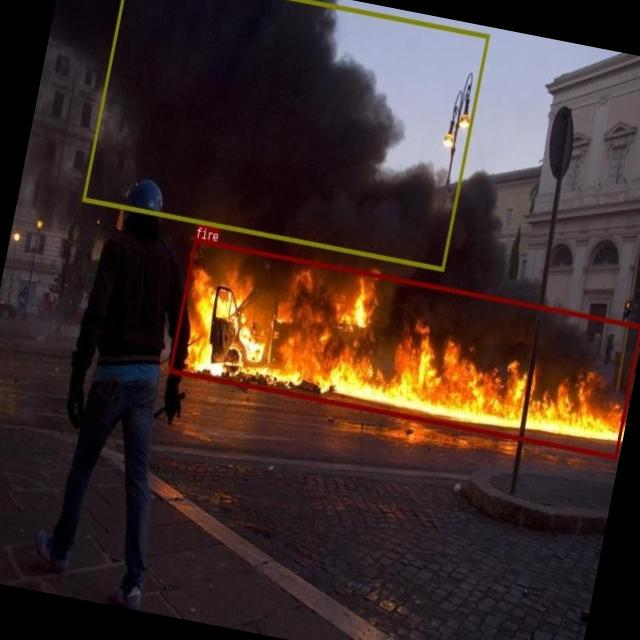fire: (168, 237, 640, 458)
smoke: (82, 0, 489, 271)
